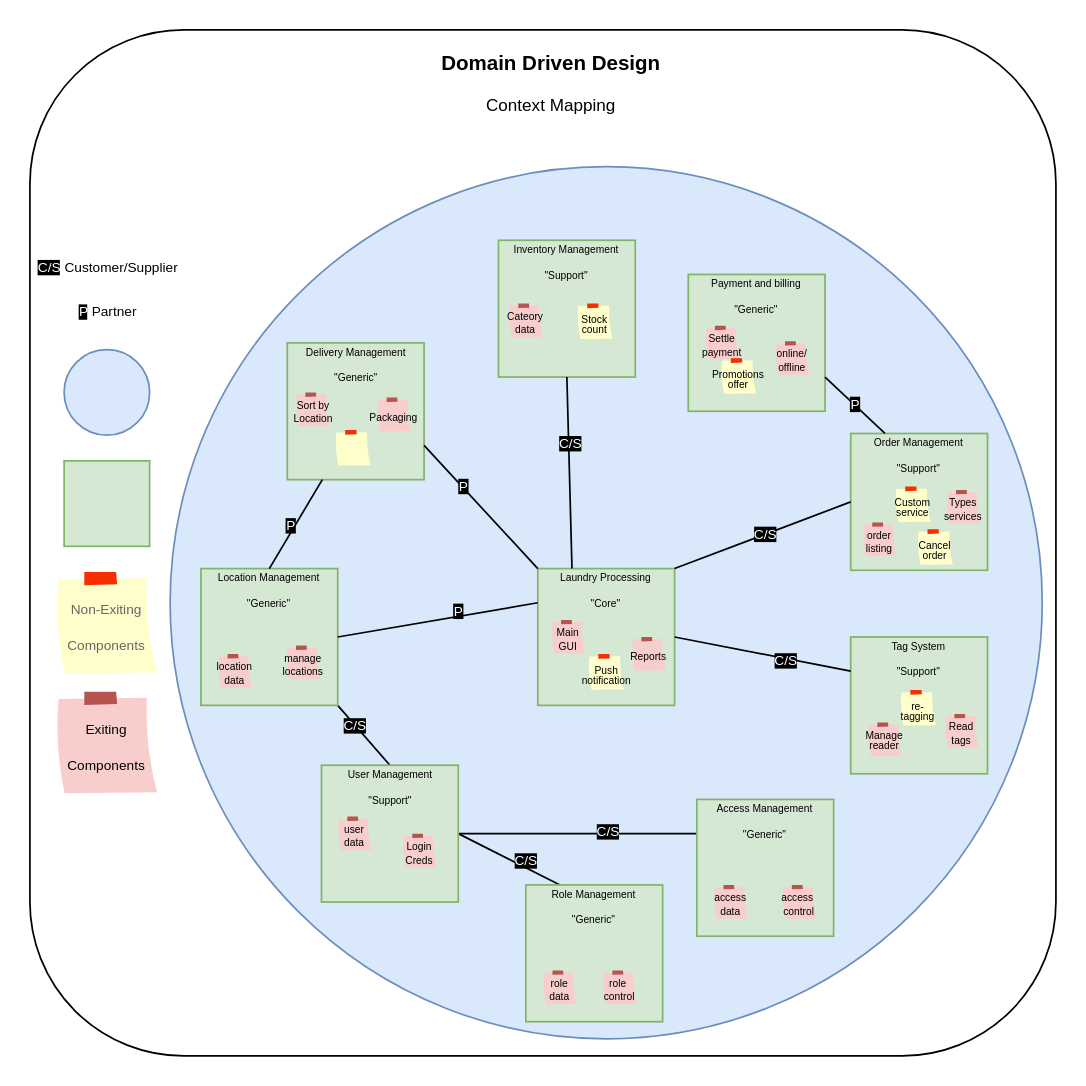
The diagram is 1086 pixels wide and 1086 high, and some of its shapes have lost their labels. Each missing label, with the centre of its shape:
"Domain" belongs at (x=106, y=391).
"Sort by Customer" belongs at (x=352, y=447).
"SubDomain" belongs at (x=106, y=502).
